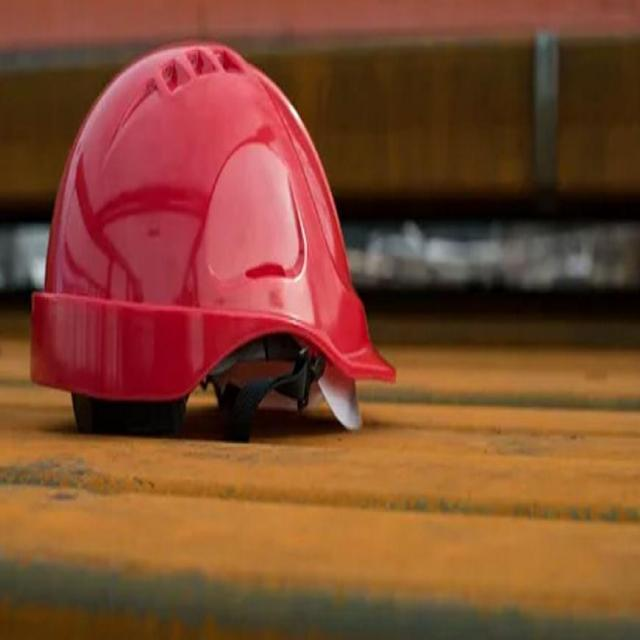Safety-Helmet: (22, 36, 402, 424)
